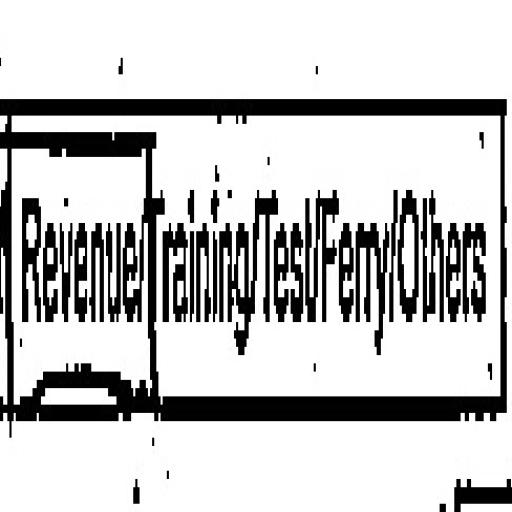check: (0, 62, 148, 508)
